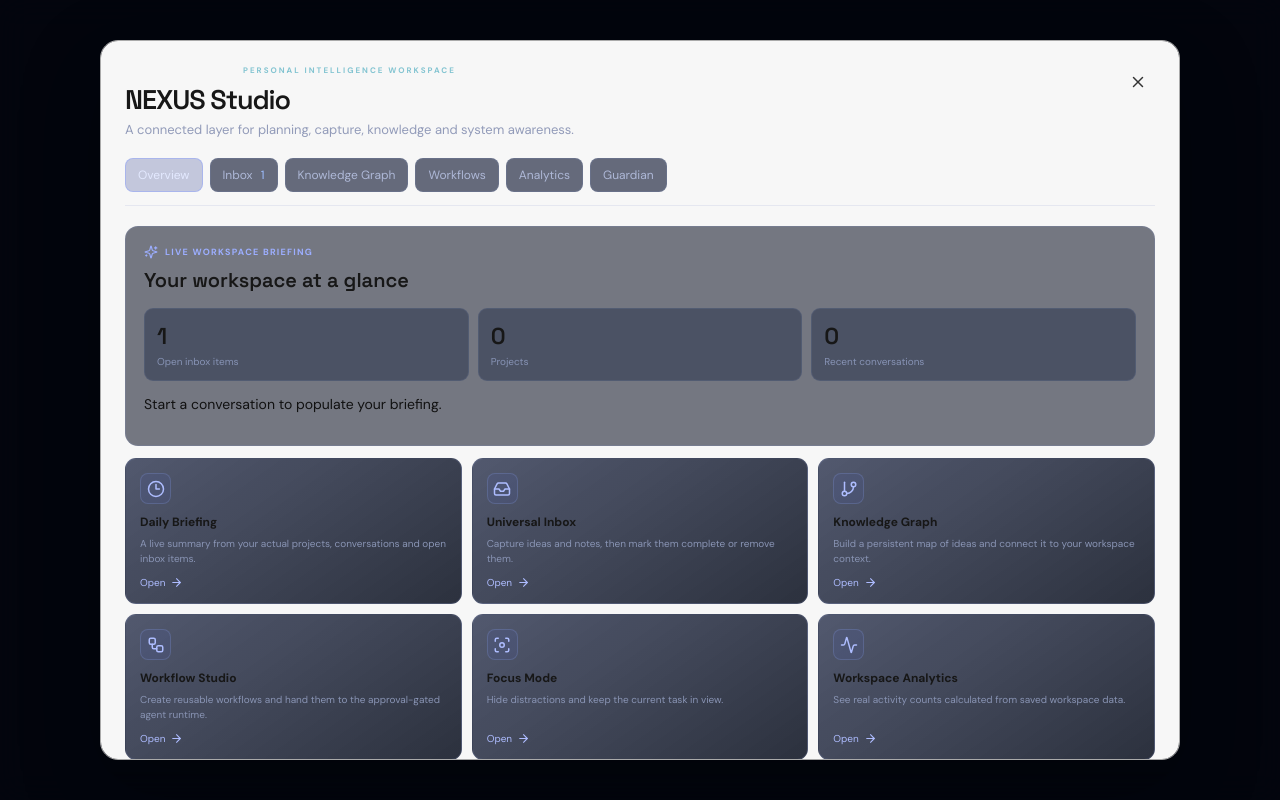
Test: NEXUS Studio › rejects oversized and duplicate persisted inbox records
Click the button "Inbox 1": (244, 175) [210,158,278,192]
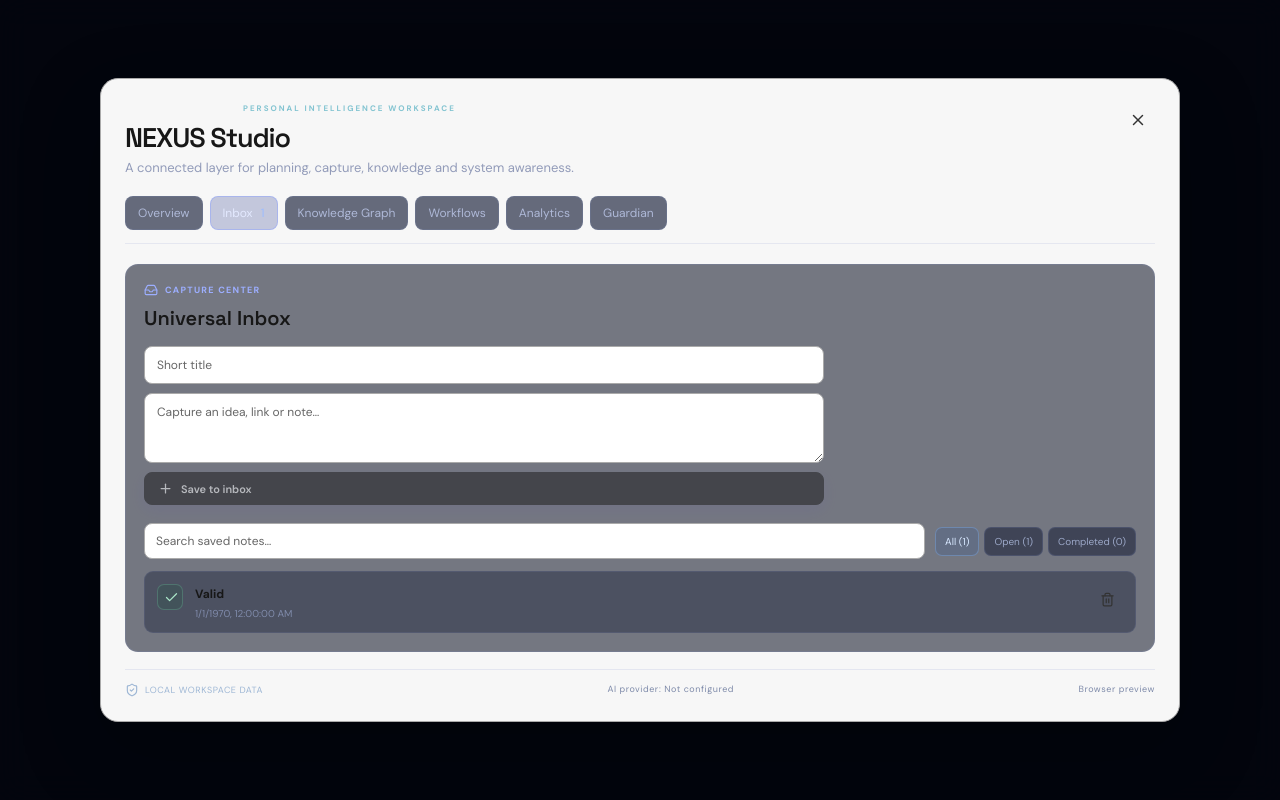
Expected: the text "Valid" is shown, [195,586,224,602]
